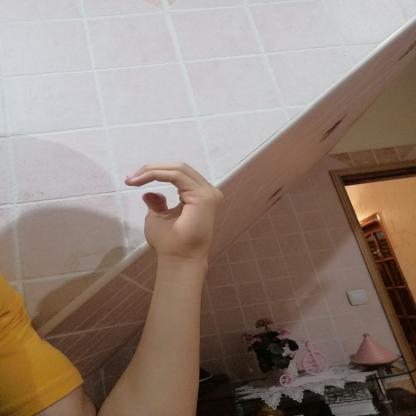JEEM: (112, 151, 238, 274)
